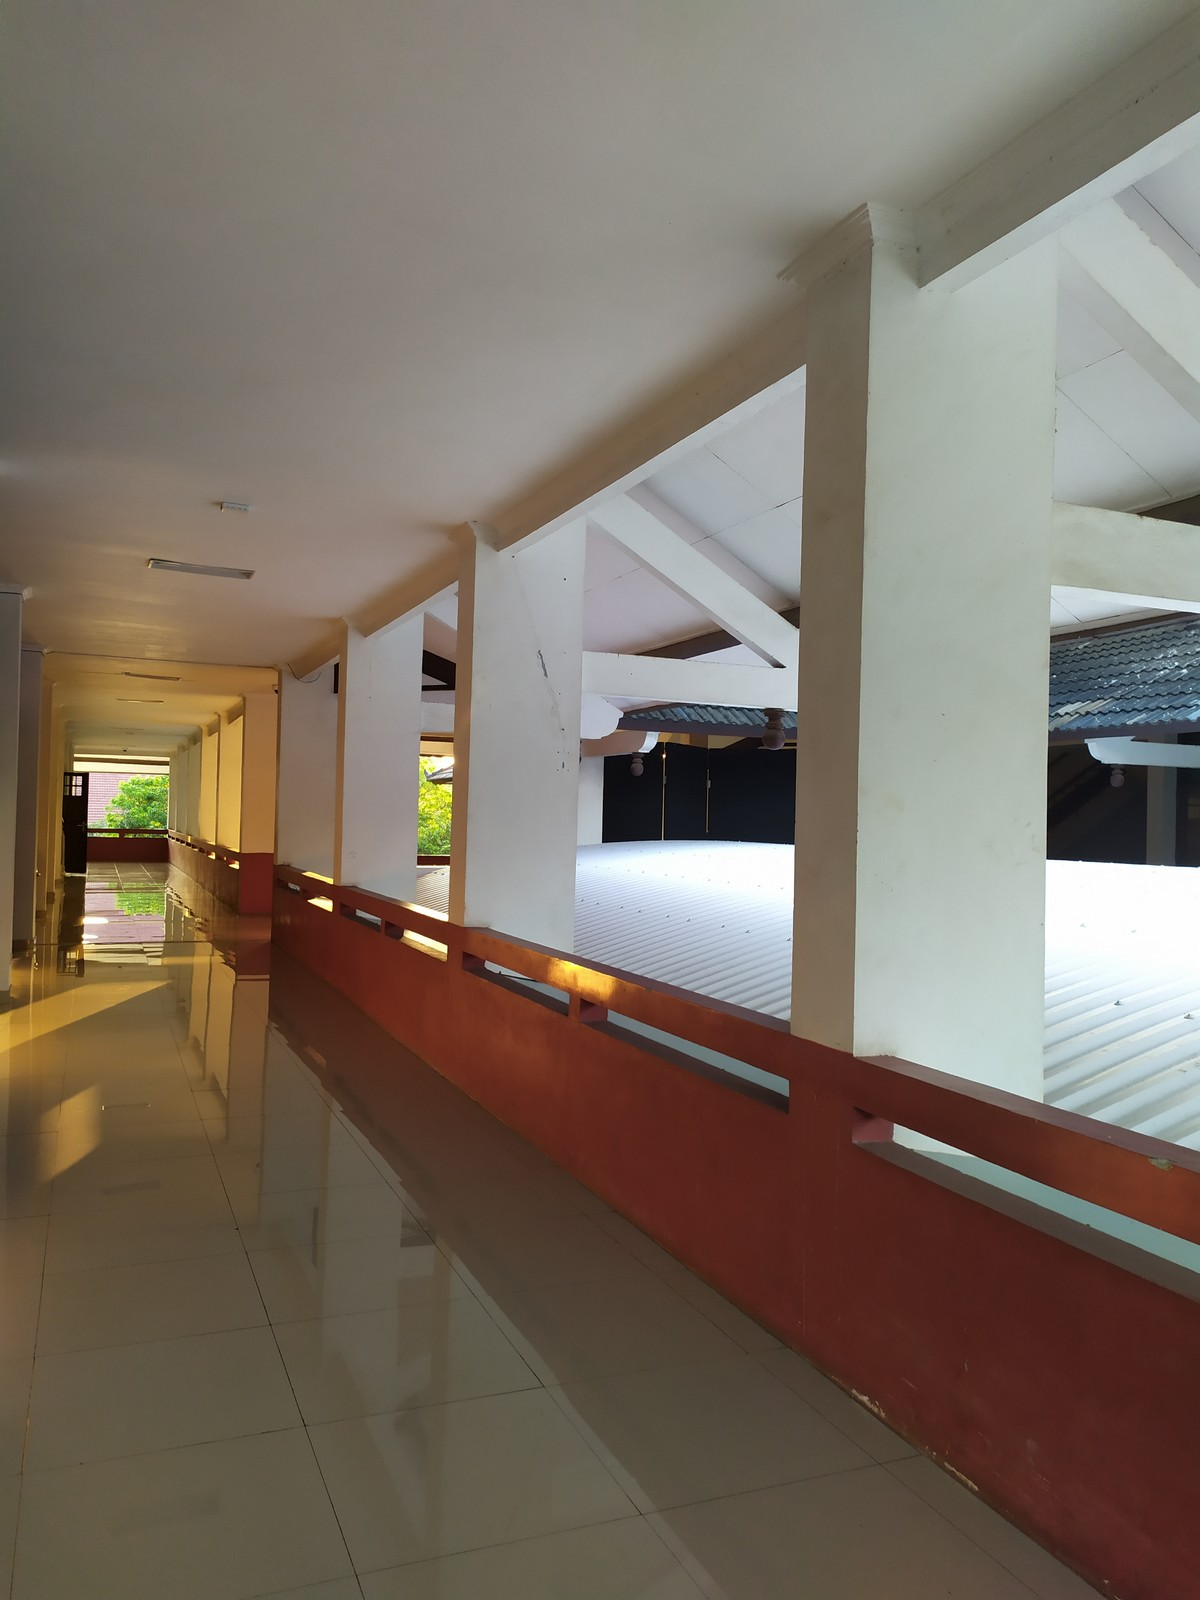concrete beam: (563, 646, 789, 716)
concrete column: (792, 212, 1066, 1089), (451, 517, 594, 957), (329, 615, 425, 901)
